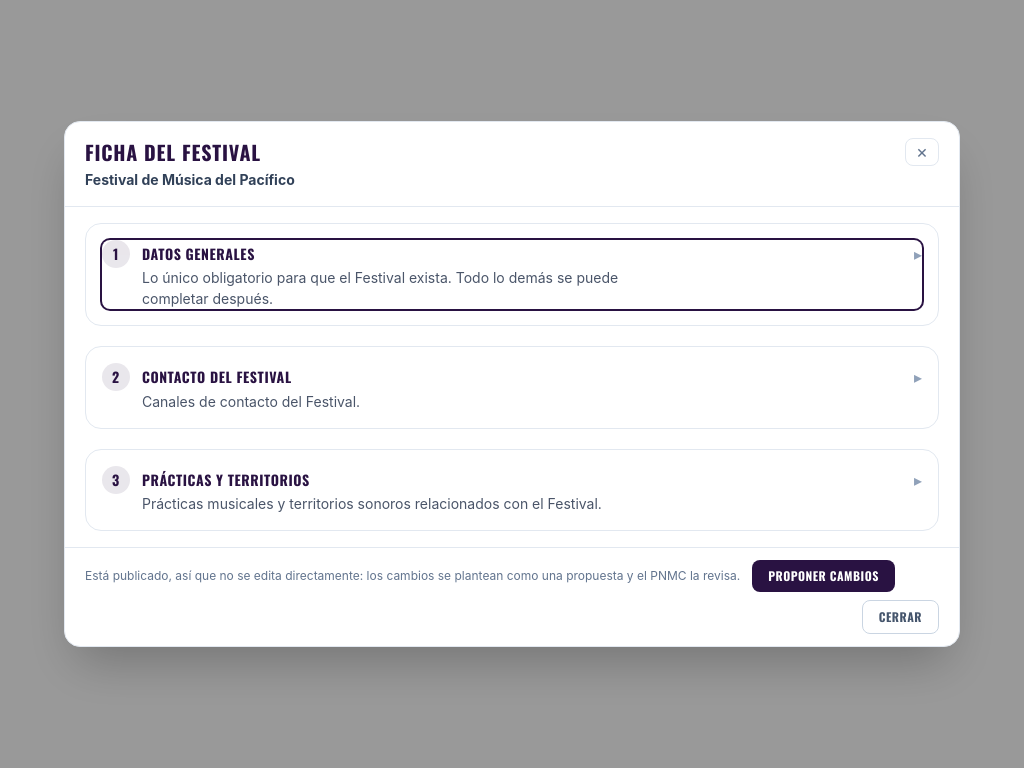
Test: FichaFestivalComponent · la misma vista para leer, editar y crear › «Editar Festival» inicia la propuesta, siembra sus campos y habilita el formulario
Click the button "Proponer cambios" at [824, 576], box [752, 560, 895, 592]
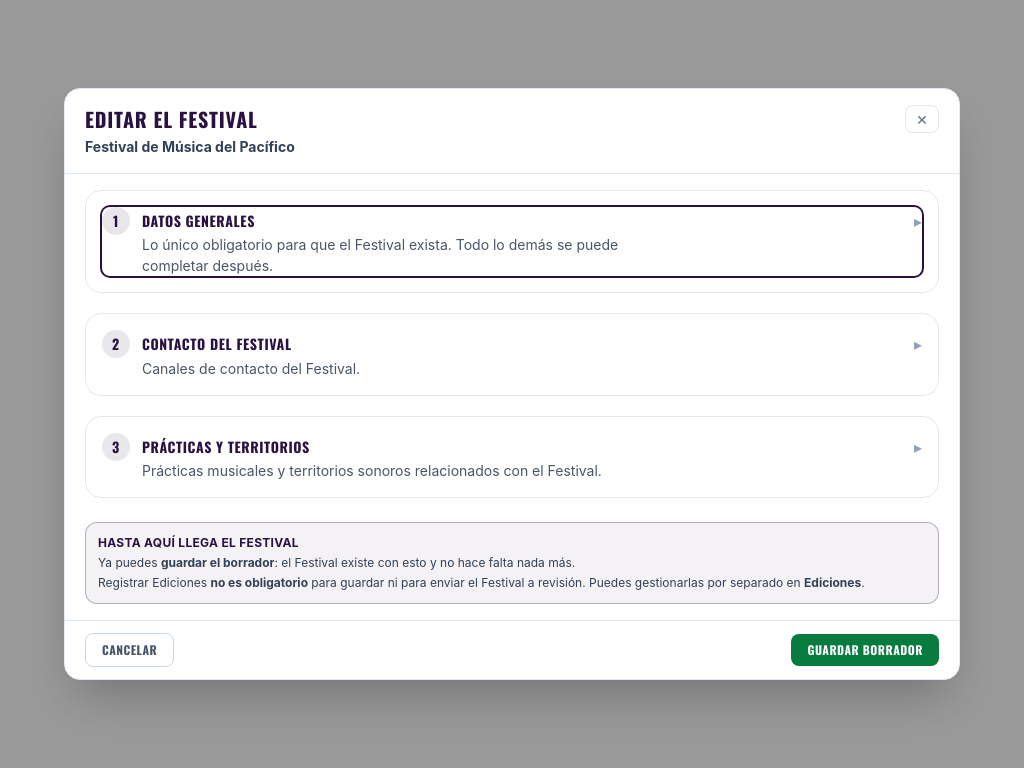
Click the button that starts with "Datos generales" at [512, 242], box [102, 207, 922, 276]
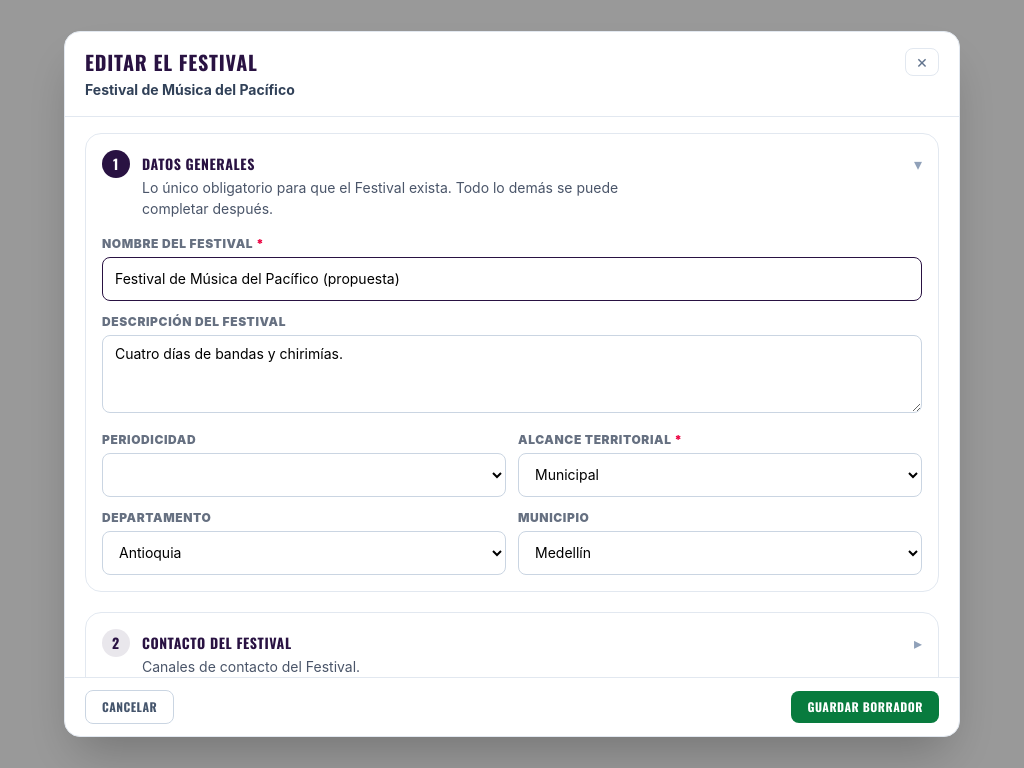
Check: the field named "nombre" holds "Festival de Música del Pacífico (propuesta)", box [102, 257, 922, 301]
